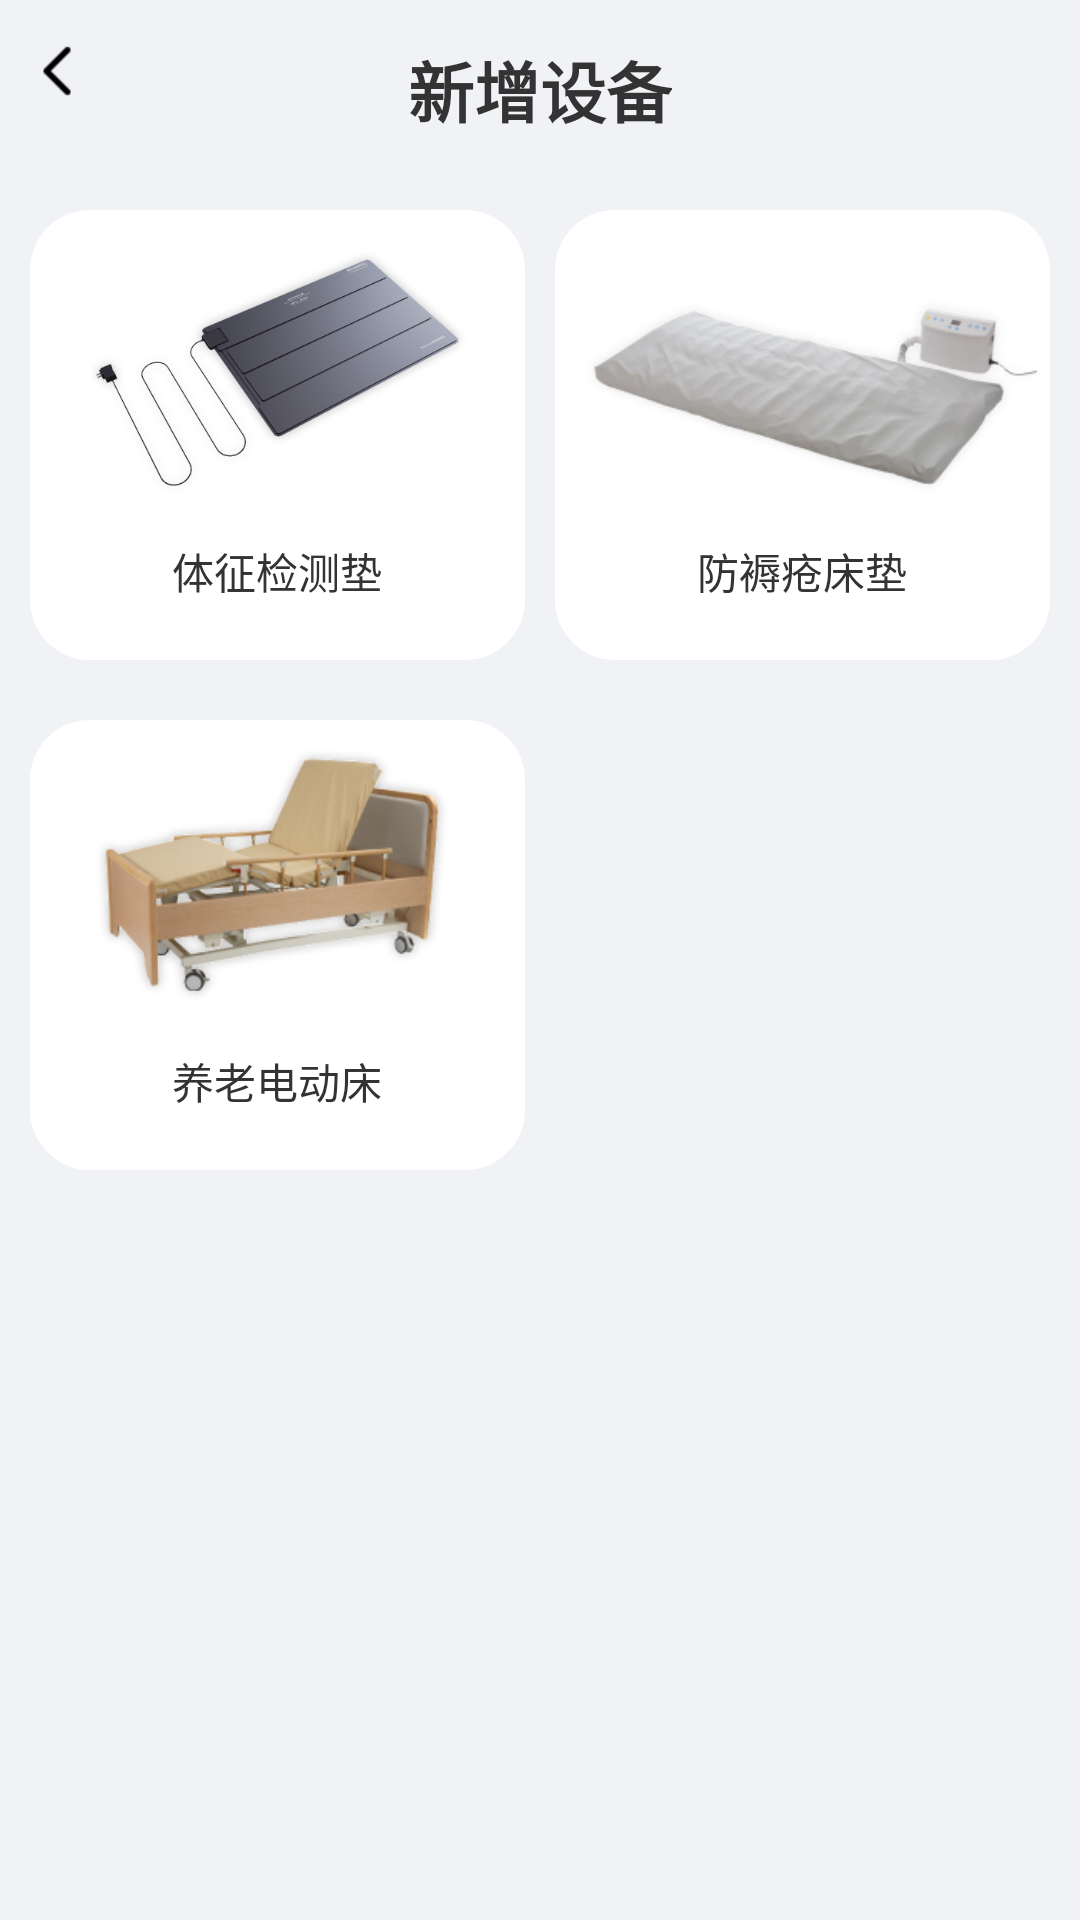

Point at icon controls on the screen. Image size 1080px x 1920px, points as (x,y).
back: (57,71)
